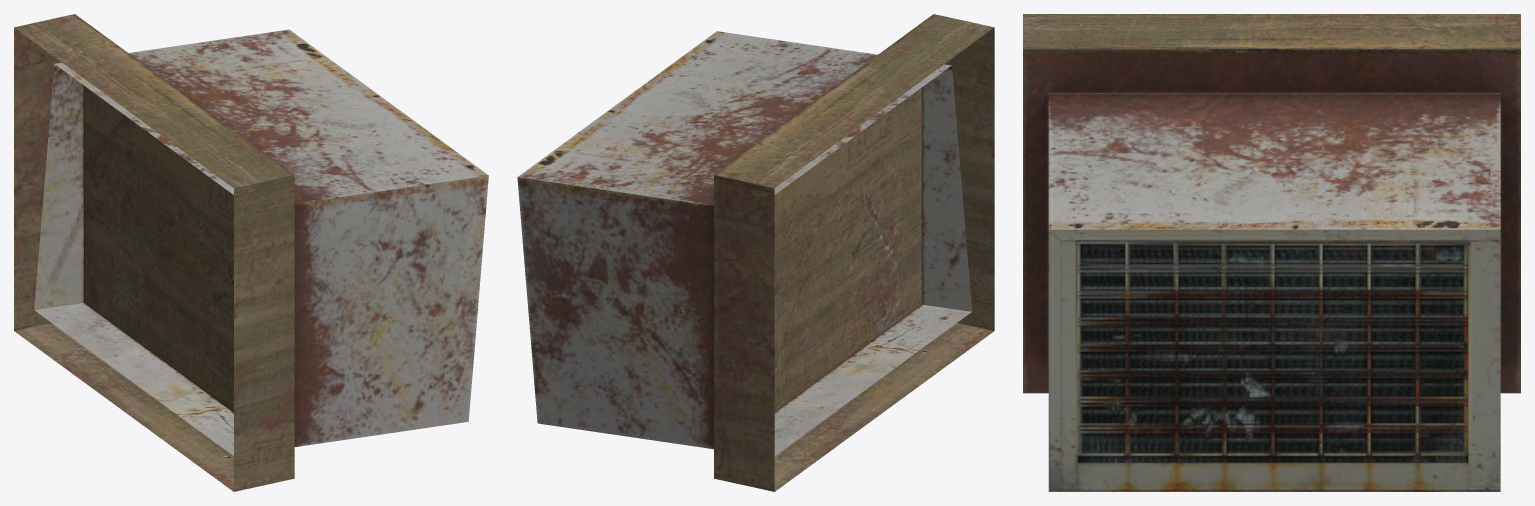
The picture shows the model from 3 angles, left to right: view 1: azimuth 30°, elevation 25°; view 2: azimuth 150°, elevation 25°; view 3: azimuth 270°, elevation 25°; orthographic projection. The views are drawn at different scales.
Parts seen in each view (by area): view 1: AC; view 2: AC; view 3: AC.
Boxes of the visible parts, x1,y1,x2,y2 form: AC: [14, 14, 488, 491]; AC: [517, 14, 994, 491]; AC: [1023, 14, 1520, 491].
Bounding box in the file's own units: 81.98 × 89.76 × 117.
